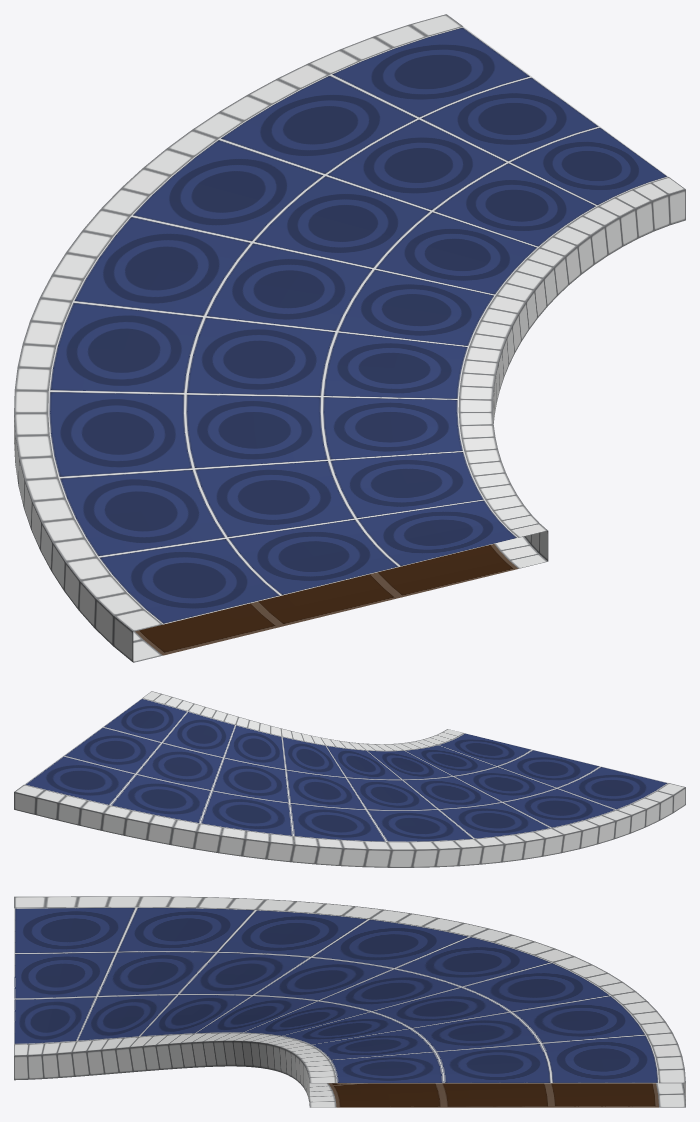
Rendered from NonLinearCurve1.obj.
The picture shows the model from 3 angles, top to bottom: view 1: azimuth 30°, elevation 25°; view 2: azimuth 150°, elevation 25°; view 3: azimuth 270°, elevation 25°; orthographic projection. The views are drawn at different scales.
Visible parts, largest first — view 1: Cube_Cube.001; view 2: Cube_Cube.001; view 3: Cube_Cube.001.
Boxes of the visible parts, x1,y1,x2,y2 form: Cube_Cube.001: (14, 14, 685, 662); Cube_Cube.001: (14, 691, 685, 867); Cube_Cube.001: (14, 896, 685, 1107).
Size of the model in its own units: 12.5 by 2.5 by 12.5.
